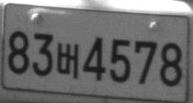3: (32, 32, 53, 77)
4: (81, 36, 106, 81)
5: (109, 38, 131, 82)
7: (134, 40, 158, 84)
8: (159, 41, 183, 87), (7, 30, 29, 75)
버: (56, 42, 79, 78)
